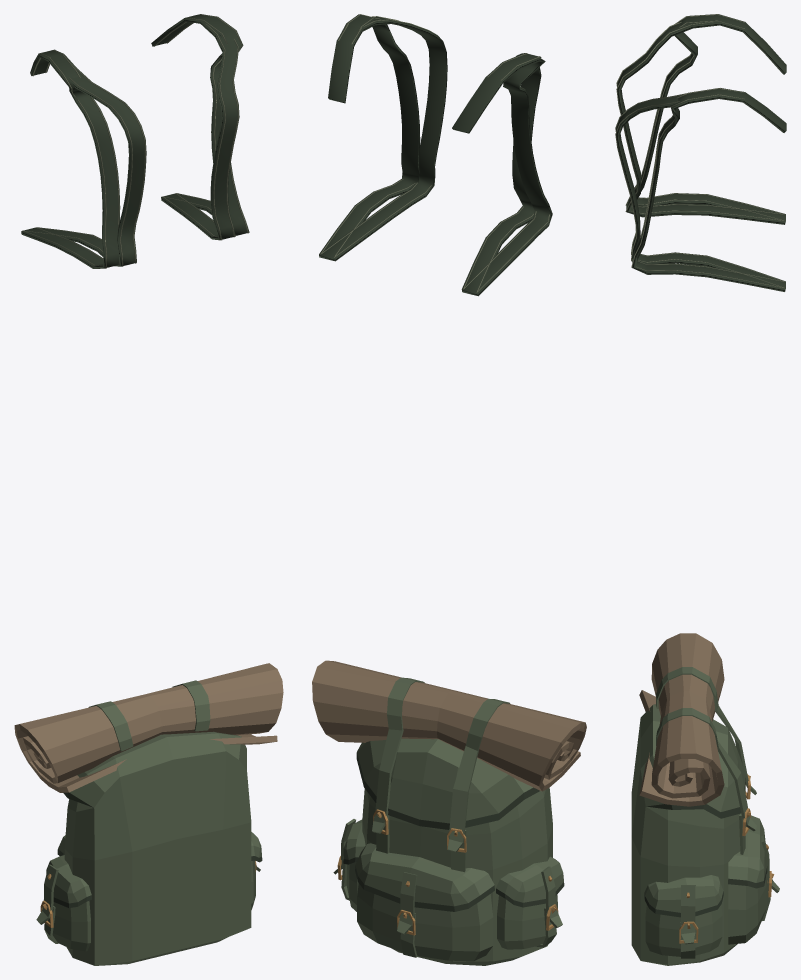
Rendered from backpack-190.glb.
The picture shows the model from 3 angles, left to right: view 1: azimuth 30°, elevation 25°; view 2: azimuth 150°, elevation 25°; view 3: azimuth 270°, elevation 25°; orthographic projection. The views are drawn at different scales.
Parts seen in each view (by area): view 1: field-backpack, field-harness-female, field-harness-male; view 2: field-backpack, field-harness-female, field-harness-male; view 3: field-backpack, field-harness-female, field-harness-male.
Boxes of the visible parts, x1,y1,x2,y2 form: field-backpack: (14,663,283,965); field-harness-female: (22,14,239,266); field-harness-male: (21,14,249,268); field-backpack: (312,660,586,965); field-harness-female: (319,16,541,294); field-harness-male: (319,14,552,296); field-backpack: (631,633,779,965); field-harness-female: (615,14,786,288); field-harness-male: (631,14,786,291).
Size of the model in its own units: 0.5358 by 1.82 by 0.3228.
